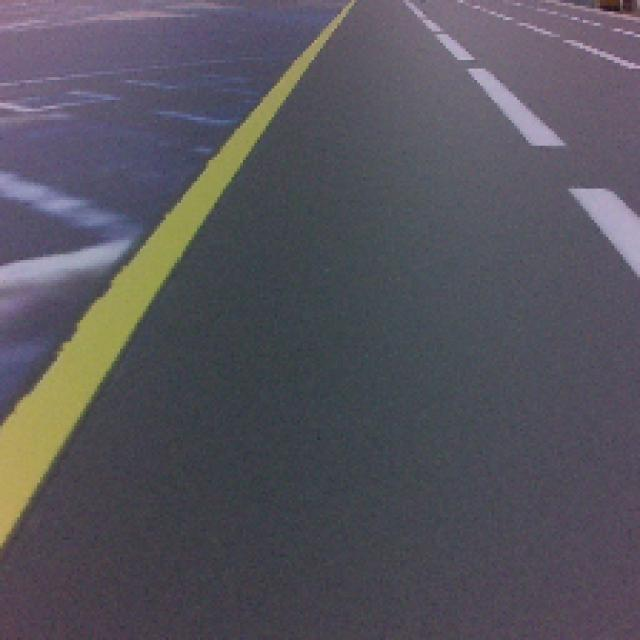Road: (0, 301, 640, 640)
